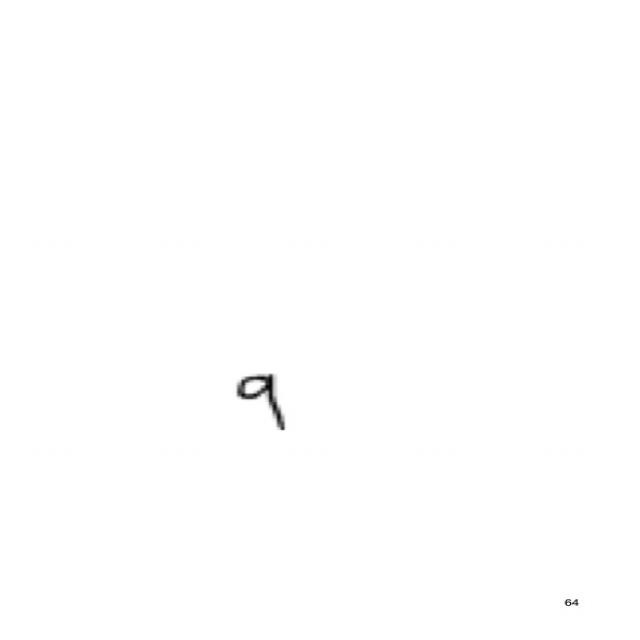9 -nine-: (220, 362, 300, 440)
